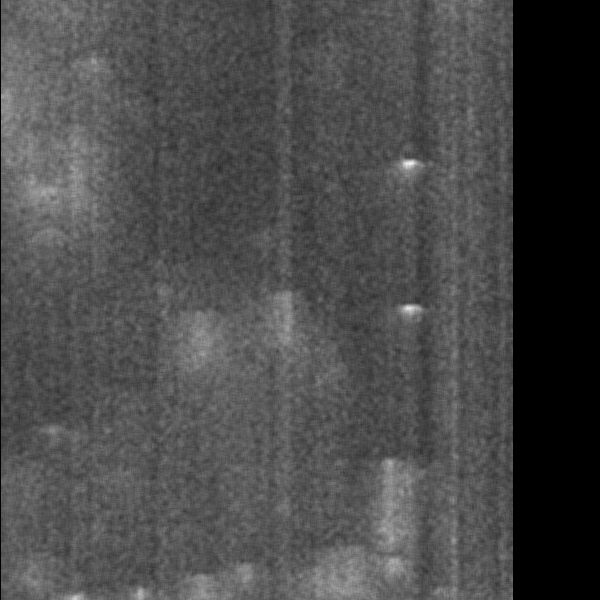spark: (364, 433, 417, 600), (236, 288, 286, 380), (173, 300, 220, 390), (391, 298, 428, 333), (392, 158, 427, 188), (20, 560, 46, 600), (29, 221, 73, 242), (81, 50, 107, 80)
